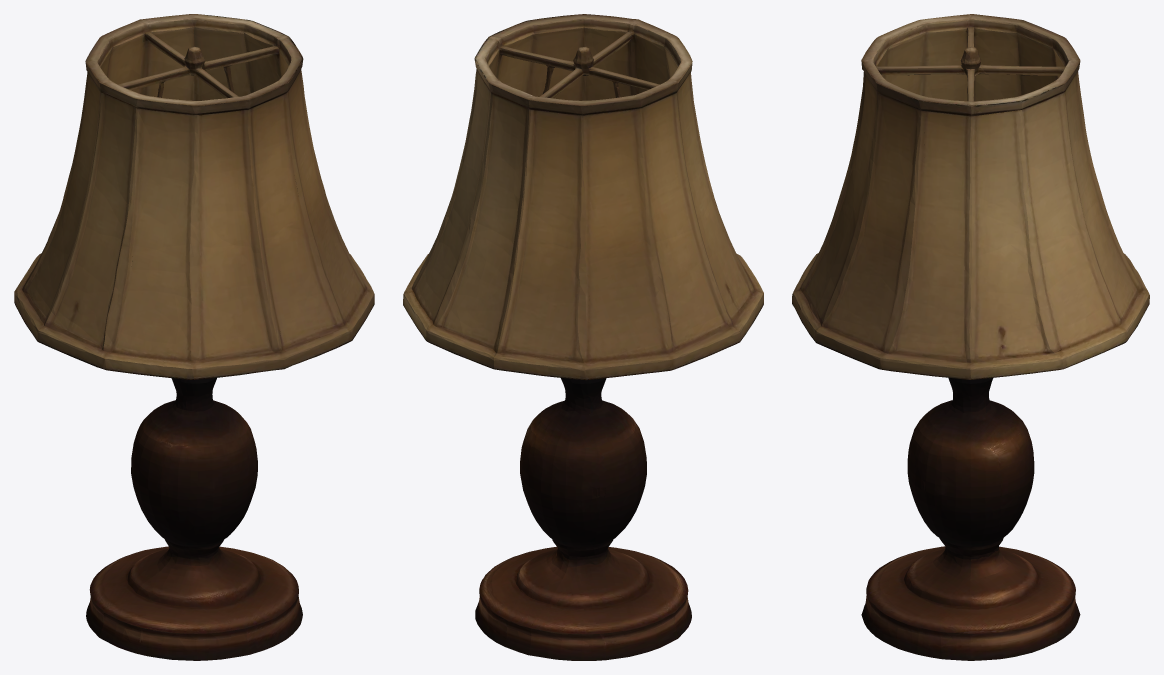
The model's file is lamp.glb.
3 views of the same model, side by side, from view 1: azimuth 30°, elevation 25°; view 2: azimuth 150°, elevation 25°; view 3: azimuth 270°, elevation 25° (orthographic).
Parts seen in each view (by area): view 1: geometry_0; view 2: geometry_0; view 3: geometry_0.
Boxes of the visible parts, x1,y1,x2,y2 form: geometry_0: [14, 14, 374, 660]; geometry_0: [403, 14, 763, 660]; geometry_0: [792, 14, 1149, 660].
Bounding box in the file's own units: 0.5726 × 0.9923 × 0.5672.
Materials: 1 (1 with a texture image).
